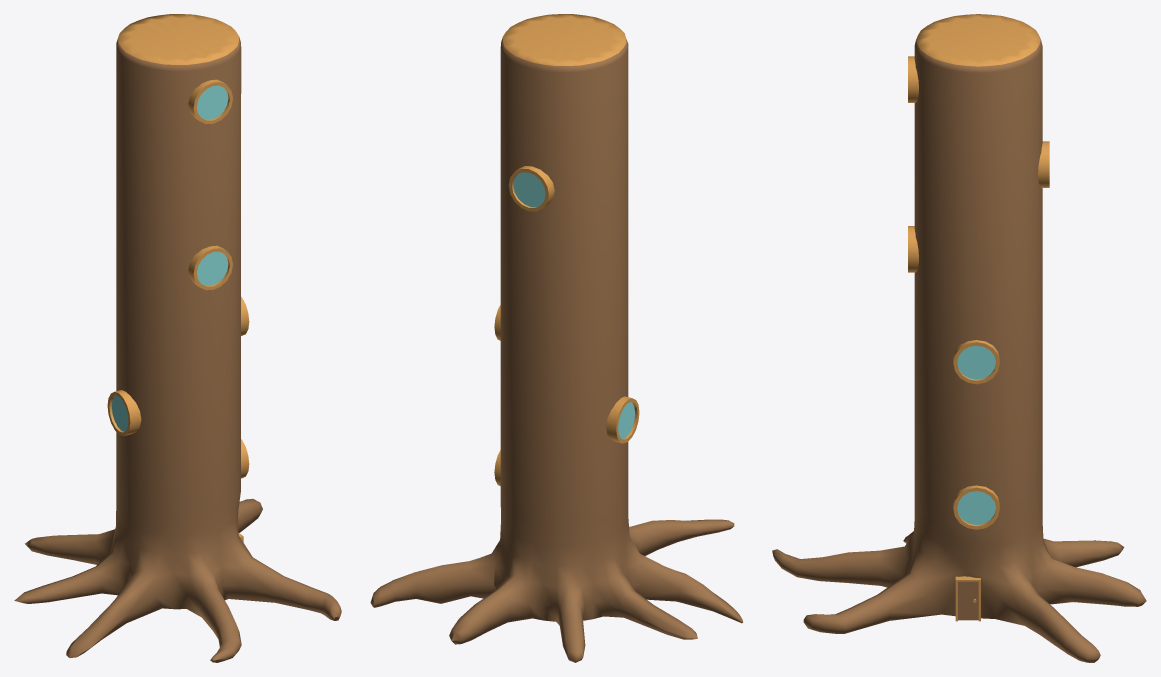
Rendered from Treehouse_medium.fbx.
3 views of the same model, side by side, from view 1: azimuth 30°, elevation 25°; view 2: azimuth 150°, elevation 25°; view 3: azimuth 270°, elevation 25° (orthographic). The views are drawn at different scales.
Visible parts, largest first — view 1: Cube.001; view 2: Cube.001; view 3: Cube.001.
Part boxes in pixels (x1,y1,x2,y2): Cube.001: [14, 14, 341, 662]; Cube.001: [370, 14, 743, 662]; Cube.001: [772, 14, 1146, 662].
Bounding box in the file's own units: 711 × 1351 × 800.
